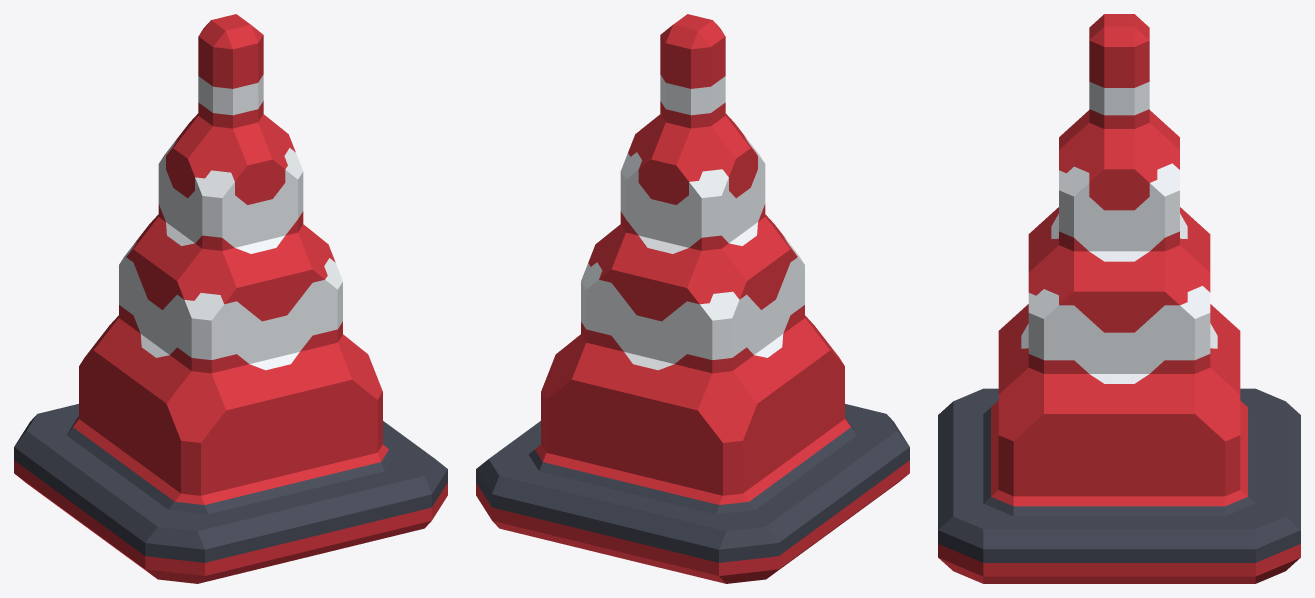
File: Corn.glb
3 renders of one model, left to right at view 1: azimuth 30°, elevation 25°; view 2: azimuth 150°, elevation 25°; view 3: azimuth 270°, elevation 25°, orthographic. The views are drawn at different scales.
Parts seen in each view (by area): view 1: pl0; view 2: pl0; view 3: pl0.
Boxes of the visible parts, x1=… form: pl0: x1=14, y1=14, x2=447, y2=583; pl0: x1=476, y1=14, x2=909, y2=583; pl0: x1=938, y1=14, x2=1300, y2=583.
Size of the model in its own units: 1.2 by 1.8 by 1.2.
1 material, 1 textured.
